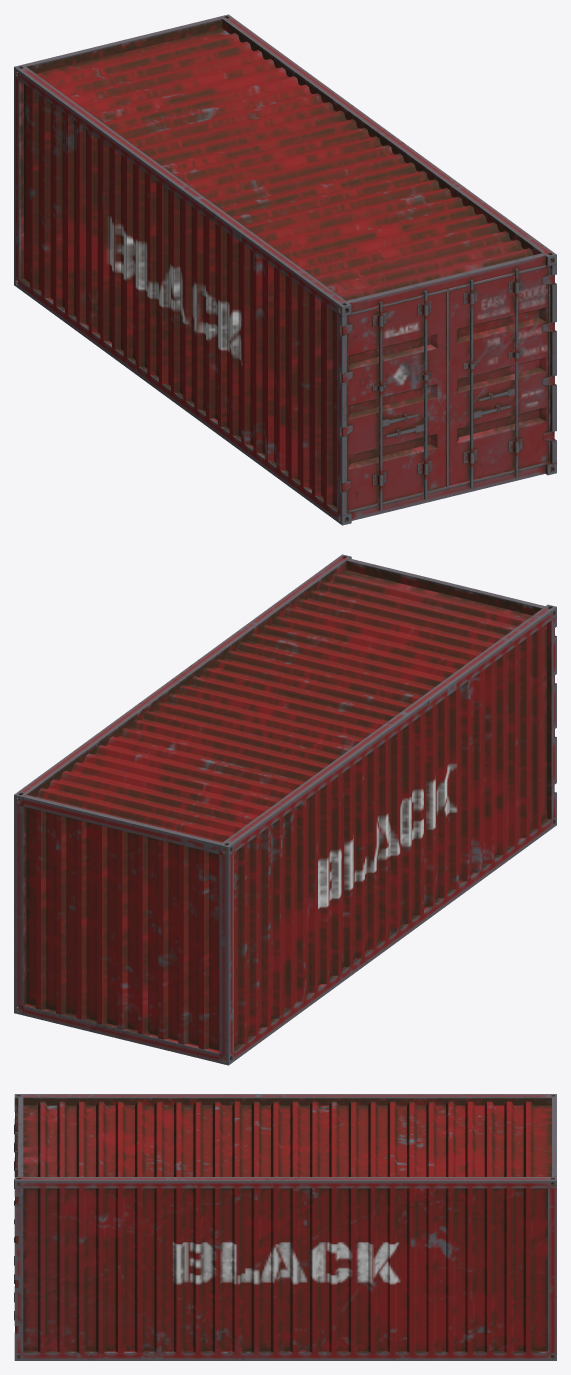
The model's file is ContainerFinal.gltf.
3 renders of one model, top to bottom at view 1: azimuth 30°, elevation 25°; view 2: azimuth 150°, elevation 25°; view 3: azimuth 270°, elevation 25°, orthographic. The views are drawn at different scales.
Visible parts, largest first — view 1: Container; view 2: Container; view 3: Container.
Part boxes in pixels (box(x1,y1,x2,y2)): Container: box(14, 14, 556, 525); Container: box(14, 554, 556, 1065); Container: box(14, 1094, 556, 1360).
Size of the model in its own units: 468 by 455 by 1241.
